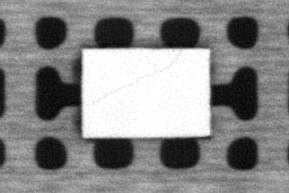DIE_CRACK: (94, 51, 182, 103)
